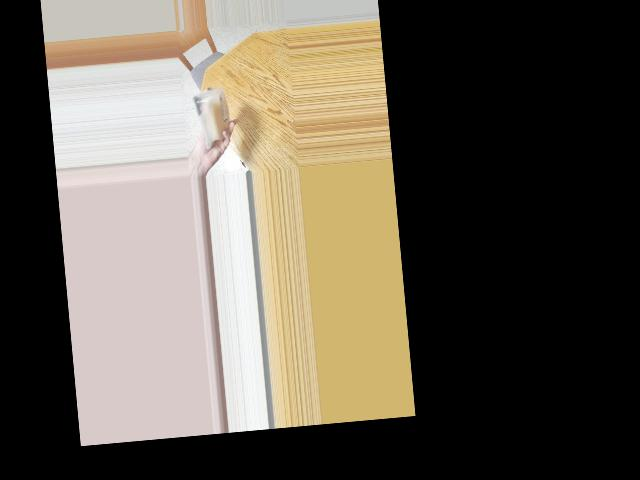cheese: (196, 90, 230, 139)
